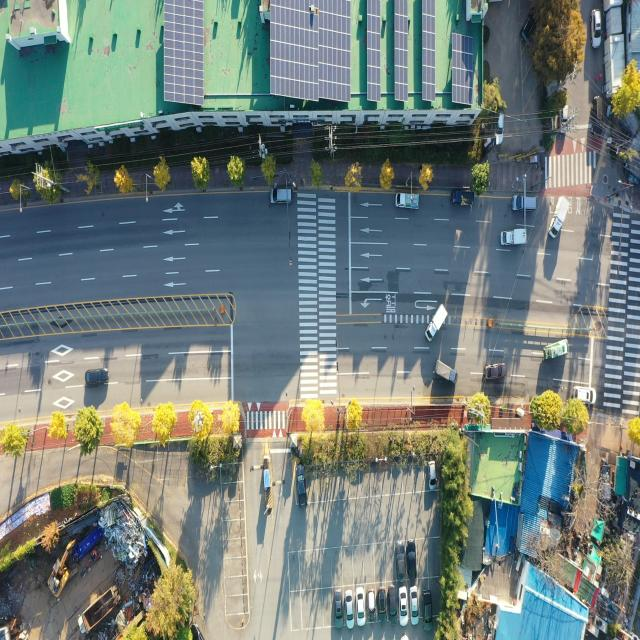car: (512, 196, 537, 213), (593, 94, 603, 136), (296, 462, 306, 503), (494, 111, 505, 148), (591, 10, 601, 50), (272, 190, 294, 207), (522, 14, 534, 43), (87, 368, 110, 383), (388, 586, 397, 624), (576, 387, 596, 404), (379, 586, 388, 622), (424, 590, 432, 630), (396, 544, 405, 578), (336, 590, 344, 628), (486, 363, 506, 378), (409, 544, 417, 580), (398, 588, 406, 624), (356, 586, 364, 622), (366, 589, 374, 622), (346, 590, 353, 626), (412, 588, 419, 624), (561, 105, 569, 133), (429, 461, 436, 489)
medium_truck: (78, 583, 122, 638)
small_truck: (549, 196, 570, 239), (425, 304, 448, 342), (436, 361, 458, 386), (545, 341, 569, 361), (501, 229, 526, 248), (452, 190, 476, 209), (395, 193, 418, 211)
